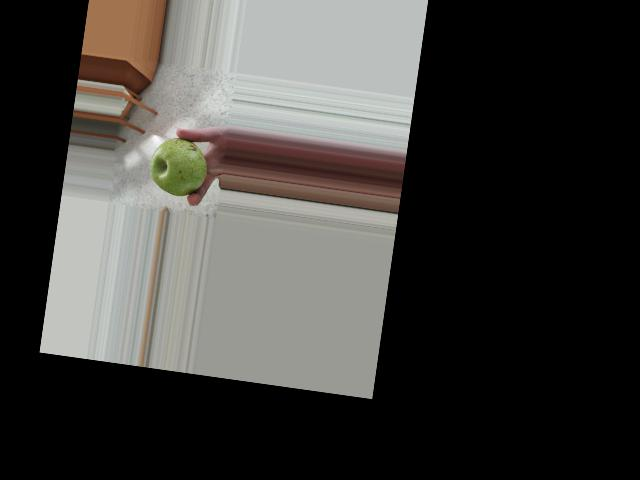apple: (145, 134, 212, 202)
